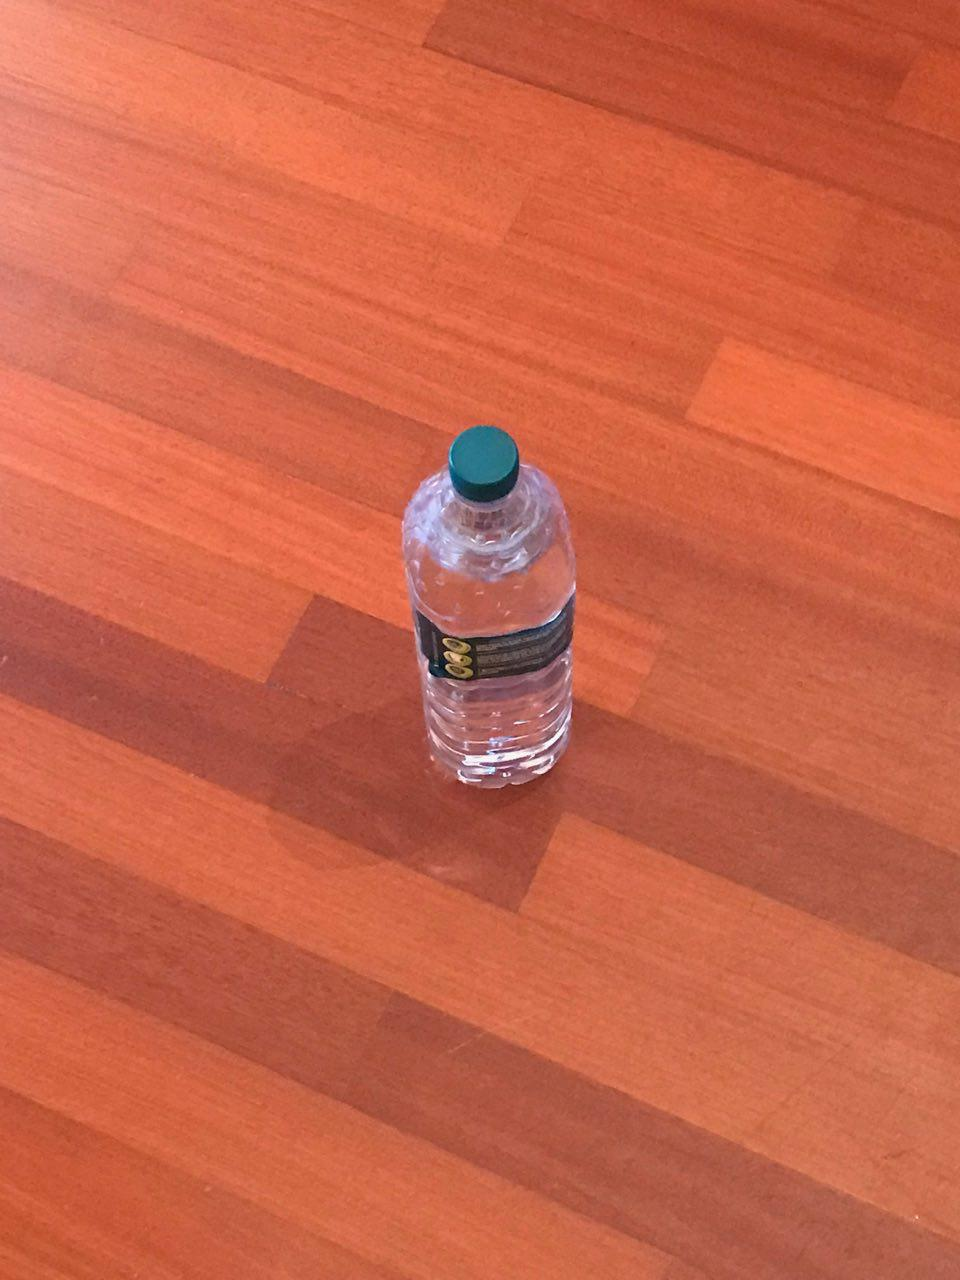san_bernardo: (400, 423, 577, 790)
